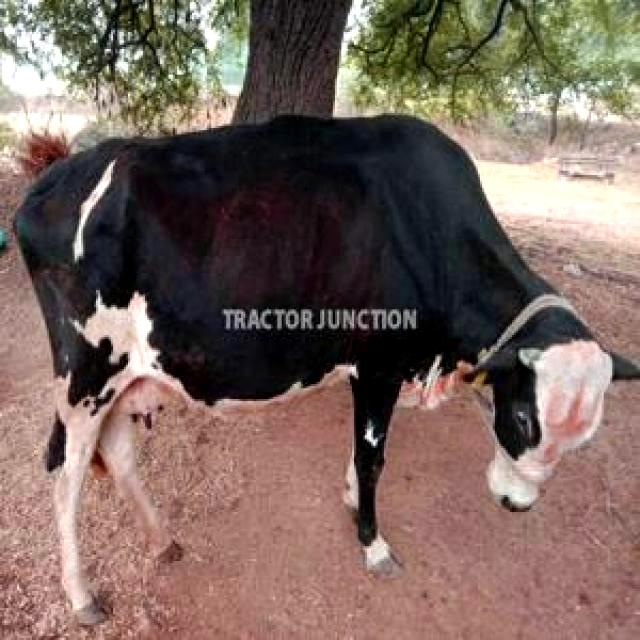COW: (14, 116, 640, 623)
